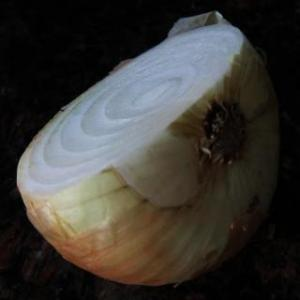onion: (13, 12, 284, 286)
